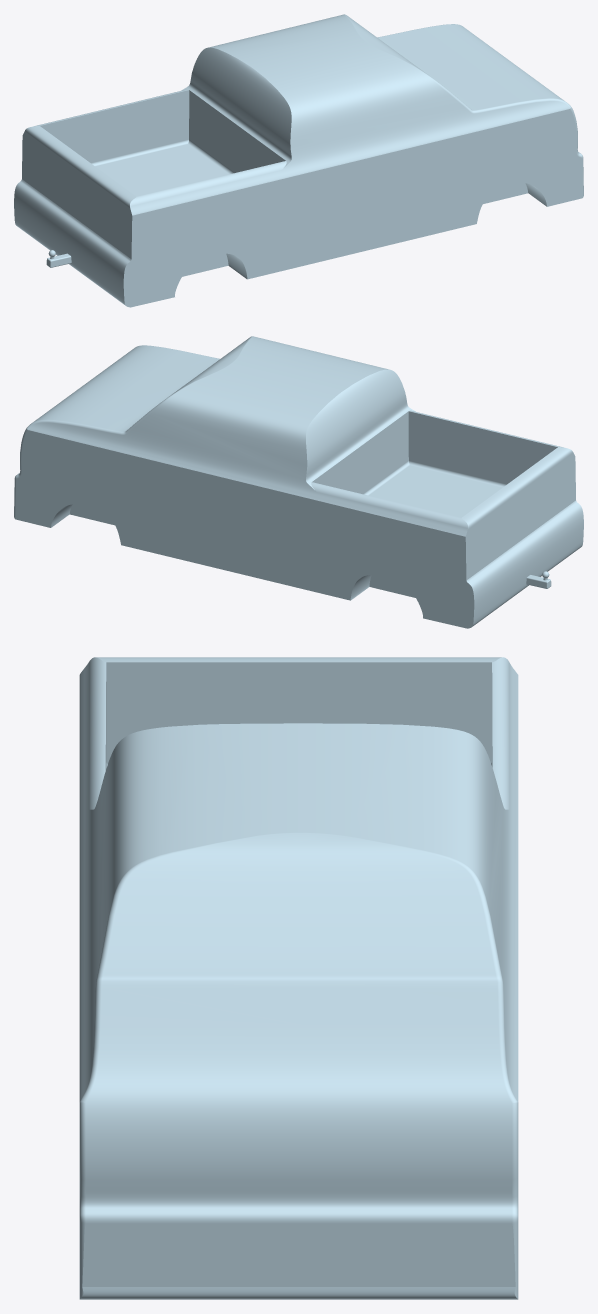
The picture shows the model from 3 angles, top to bottom: view 1: azimuth 30°, elevation 25°; view 2: azimuth 150°, elevation 25°; view 3: azimuth 270°, elevation 25°; orthographic projection. The views are drawn at different scales.
Visible parts, largest first — view 1: mesh0_mesh_48, mesh0_mesh_40, mesh0_mesh_42, mesh0_mesh_33, mesh0_mesh_30, mesh0_mesh_25, mesh0_mesh_27, mesh0_mesh_36, mesh0_mesh_32, mesh0_mesh_28, mesh0_mesh_31, mesh0_mesh_41 (+3 smaller); view 2: mesh0_mesh_47, mesh0_mesh_40, mesh0_mesh_42, mesh0_mesh_34, mesh0_mesh_30, mesh0_mesh_25, mesh0_mesh_27, mesh0_mesh_36, mesh0_mesh_32, mesh0_mesh_28, mesh0_mesh_29, mesh0_mesh_41 (+3 smaller); view 3: mesh0_mesh_42, mesh0_mesh_40, mesh0_mesh_43, mesh0_mesh_35, mesh0_mesh_46, mesh0_mesh_41, mesh0_mesh_29, mesh0_mesh_28, mesh0_mesh_31, mesh0_mesh_45, mesh0_mesh_44.
Boxes of the visible parts, x1,y1,x2,y2 form: mesh0_mesh_48: (123,109,582,307); mesh0_mesh_40: (130,14,569,215); mesh0_mesh_42: (346,15,580,153); mesh0_mesh_33: (40,90,189,162); mesh0_mesh_30: (181,47,291,167); mesh0_mesh_25: (14,179,131,305); mesh0_mesh_27: (22,132,132,258); mesh0_mesh_36: (95,144,228,196); mesh0_mesh_32: (189,90,285,172); mesh0_mesh_28: (24,125,136,208); mesh0_mesh_31: (130,161,286,206); mesh0_mesh_41: (344,14,570,113); mesh0_mesh_47: (15,430,474,628); mesh0_mesh_40: (27,336,467,536); mesh0_mesh_42: (17,337,250,474); mesh0_mesh_34: (408,411,557,484); mesh0_mesh_30: (306,369,415,489); mesh0_mesh_25: (466,500,583,626); mesh0_mesh_27: (465,453,575,580); mesh0_mesh_36: (369,465,502,517); mesh0_mesh_32: (312,411,408,494); mesh0_mesh_28: (461,447,573,530); mesh0_mesh_29: (311,482,467,528); mesh0_mesh_41: (26,336,252,434); mesh0_mesh_42: (86,833,511,1223); mesh0_mesh_40: (79,661,518,1101); mesh0_mesh_43: (82,1223,515,1286); mesh0_mesh_35: (106,662,491,764); mesh0_mesh_46: (80,1287,517,1299); mesh0_mesh_41: (80,832,517,1103); mesh0_mesh_29: (492,657,509,809); mesh0_mesh_28: (96,657,501,662); mesh0_mesh_31: (89,657,106,809); mesh0_mesh_45: (79,1102,85,1298); mesh0_mesh_44: (512,1102,518,1298).
Size of the model in its own units: 6.21 by 1.91 by 2.45.
